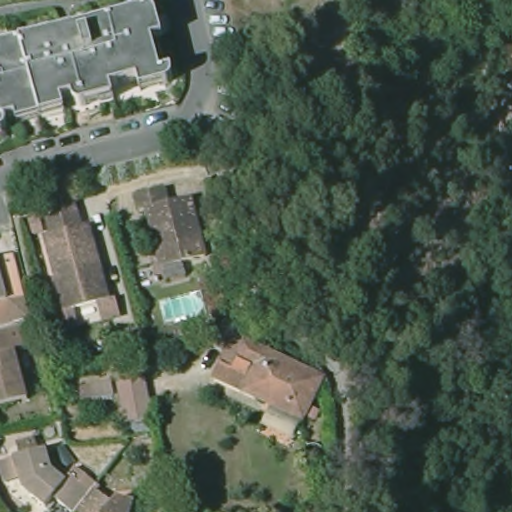pool: (160, 290, 208, 323)
